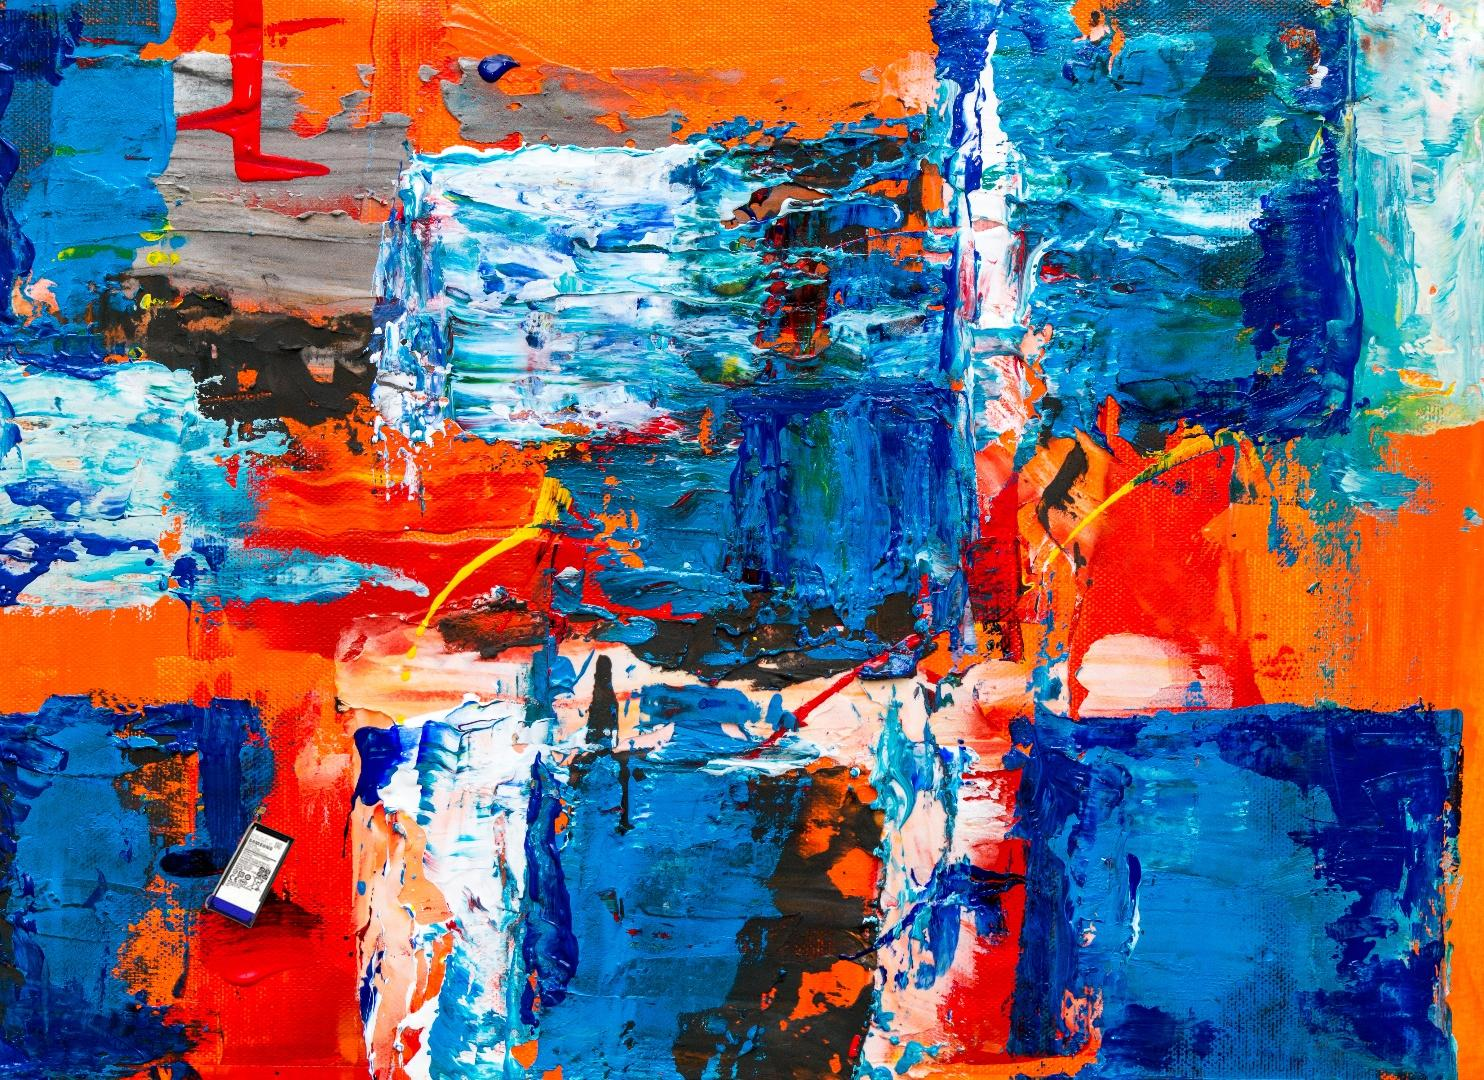battery: (202, 803, 298, 931)
